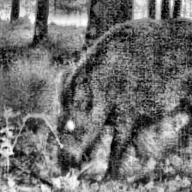boar: (52, 12, 191, 172)
